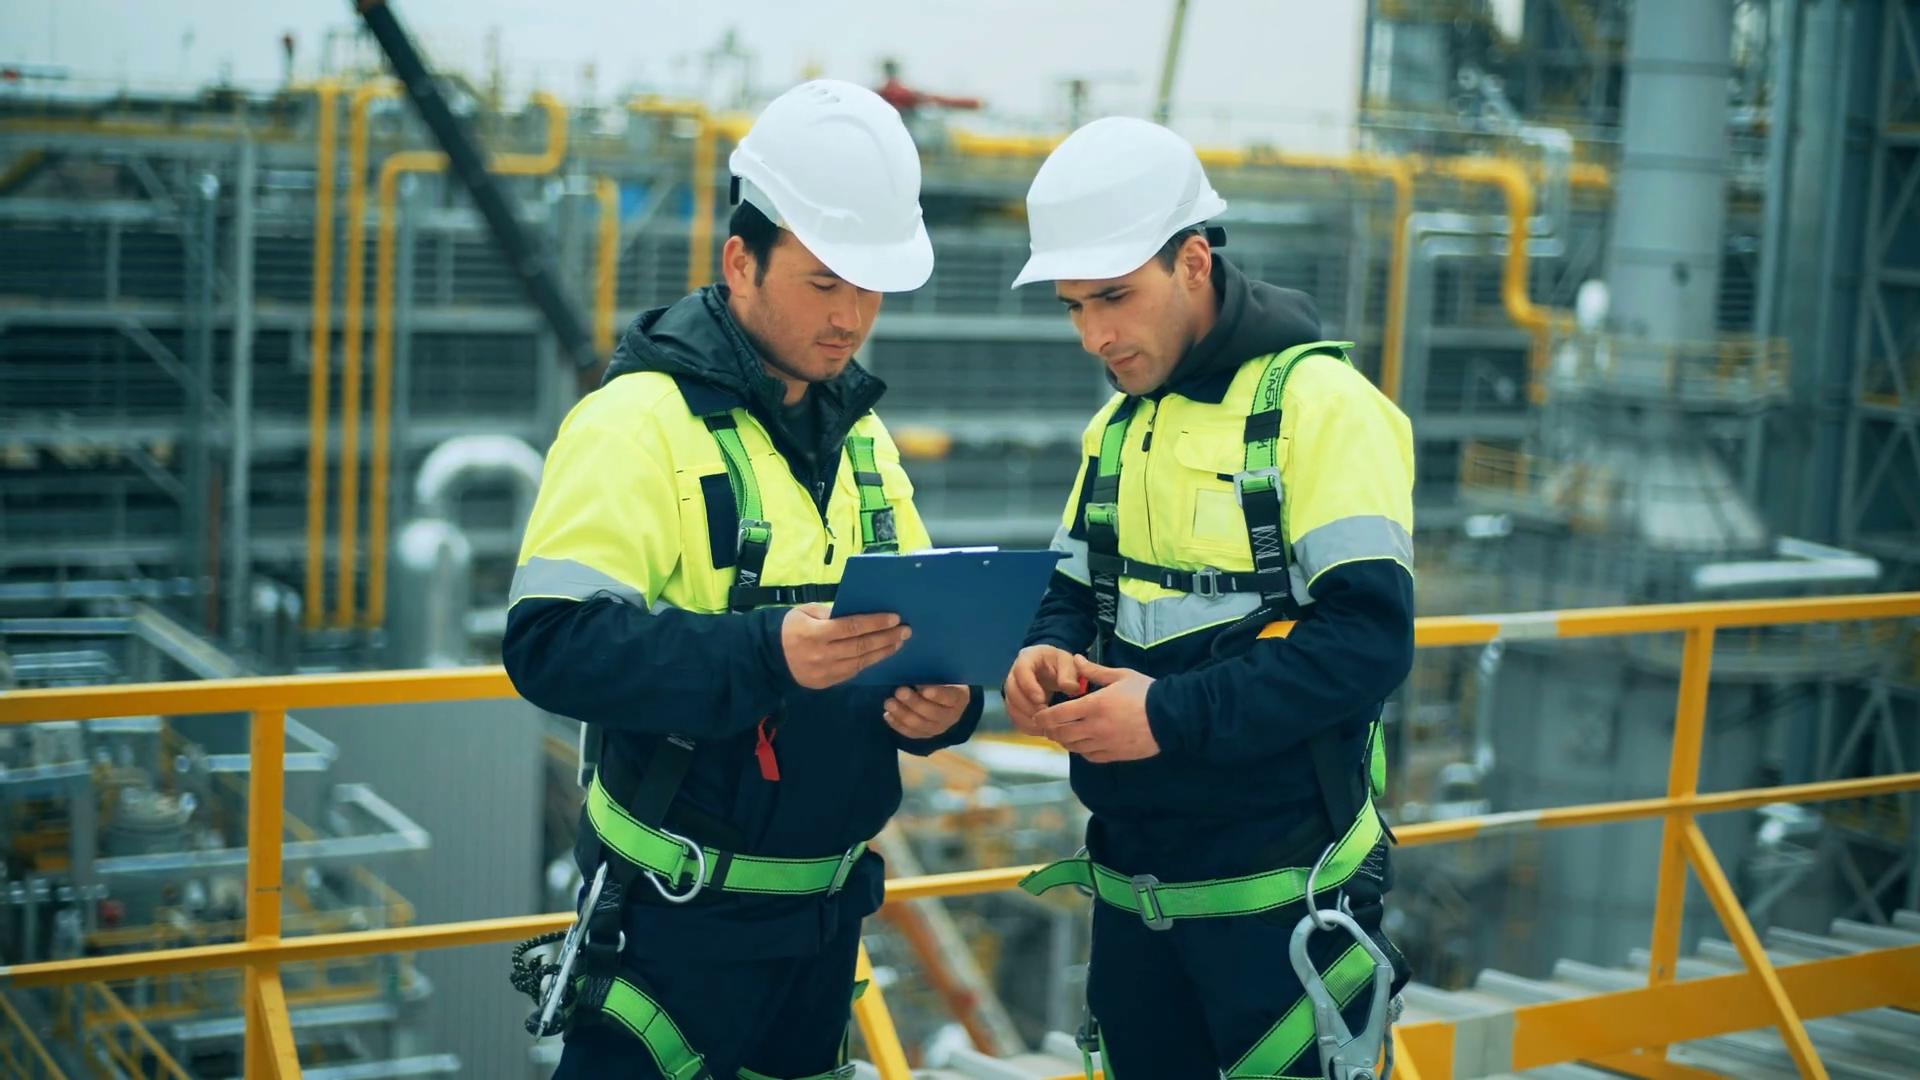epi: (504, 62, 981, 1080), (989, 98, 1466, 1080)
